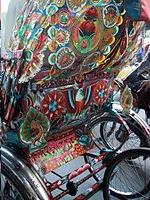Rickshaw: (0, 0, 148, 184)
